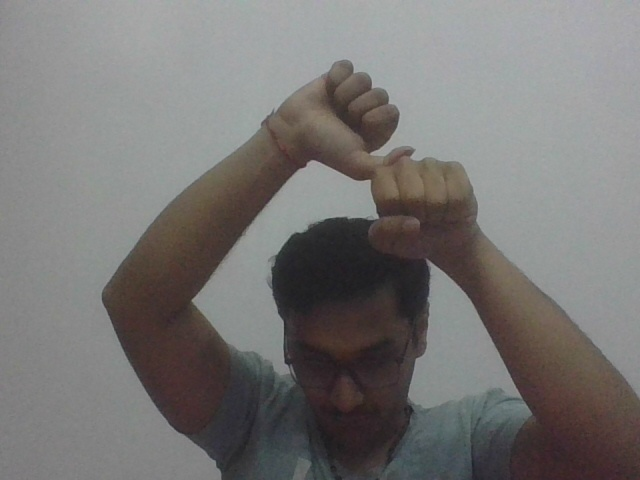S: (308, 50, 477, 254)
